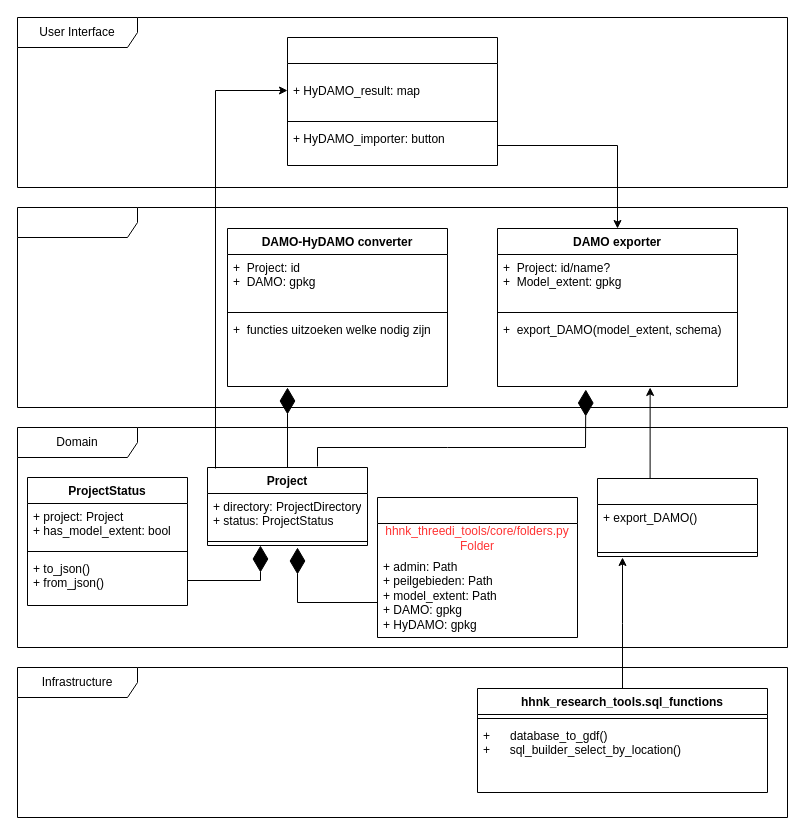
Some shapes in this 805 by 835 pixel diagram are drawn without their labels. Each missing label, with the box of its shape:
Application: (16, 206, 788, 408)
DAMO/HyDAMO UI: (286, 36, 498, 166)
DAMO_exporter: (596, 478, 758, 556)
ProjectDirectory: (376, 496, 578, 638)
